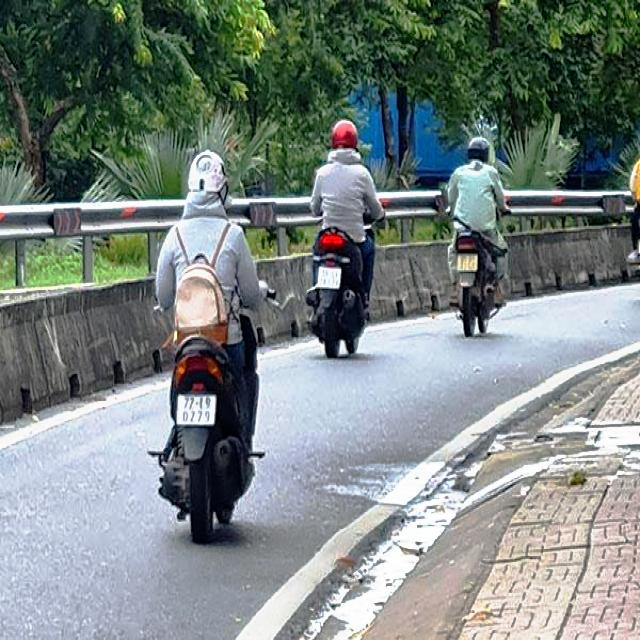license_plate: (177, 396, 217, 425)
